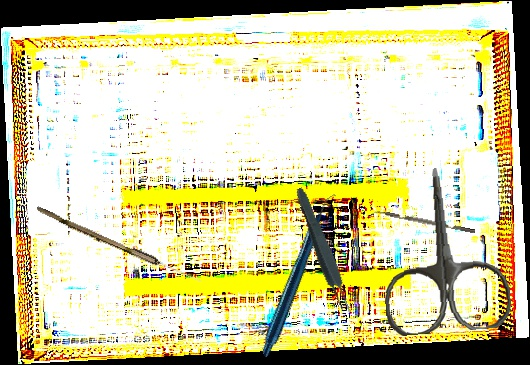Chopper: (369, 207, 476, 239)
Handpiece: (211, 193, 389, 358)
Iris Scissors: (374, 162, 513, 338)
Surgical Spoon: (34, 206, 204, 285)
Tissue Forceps: (290, 185, 356, 317)
